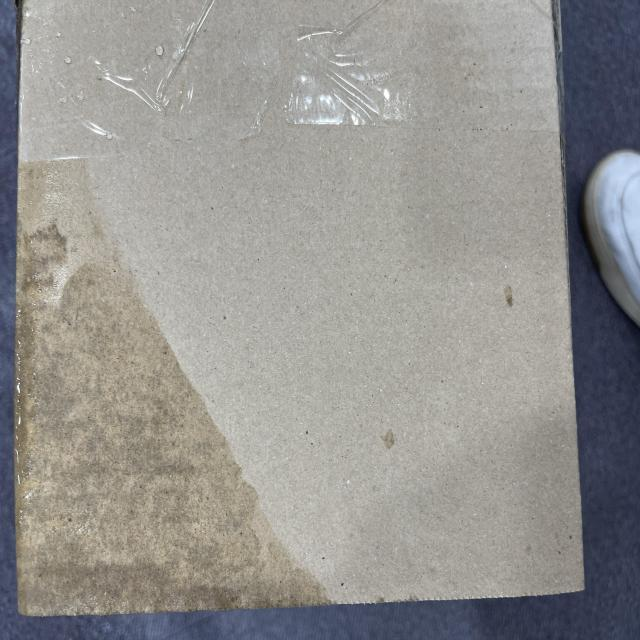wet: (61, 42, 628, 640)
